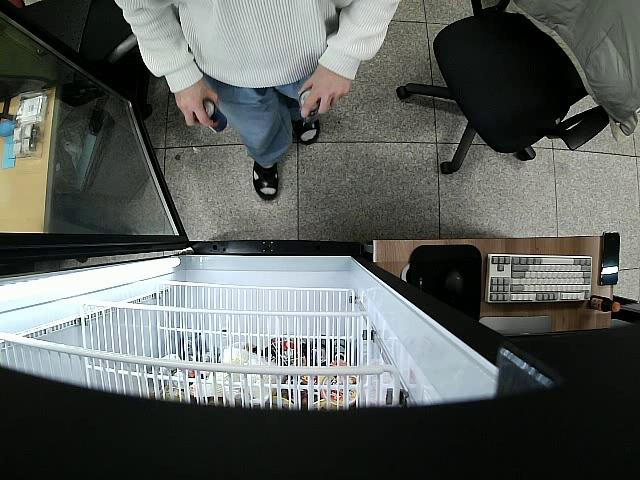00_hand: (297, 67, 353, 120), (175, 75, 221, 131)
16_hot6: (299, 87, 321, 119), (201, 101, 223, 123)
